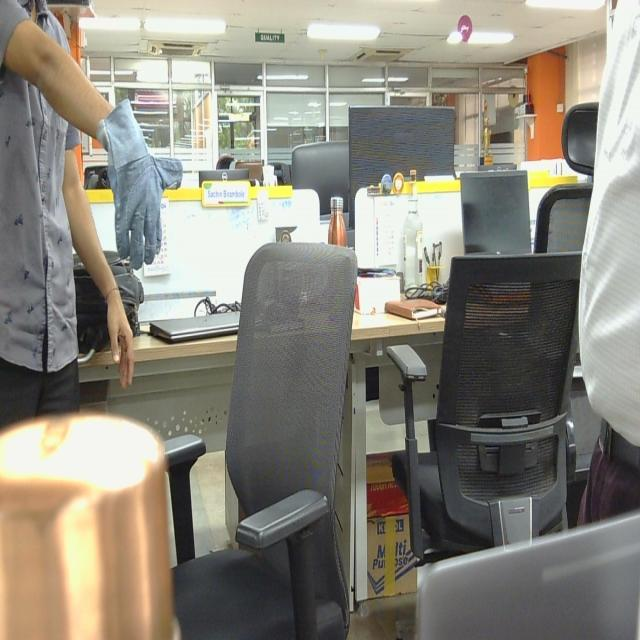Gloves-Detection: (98, 94, 184, 270)
